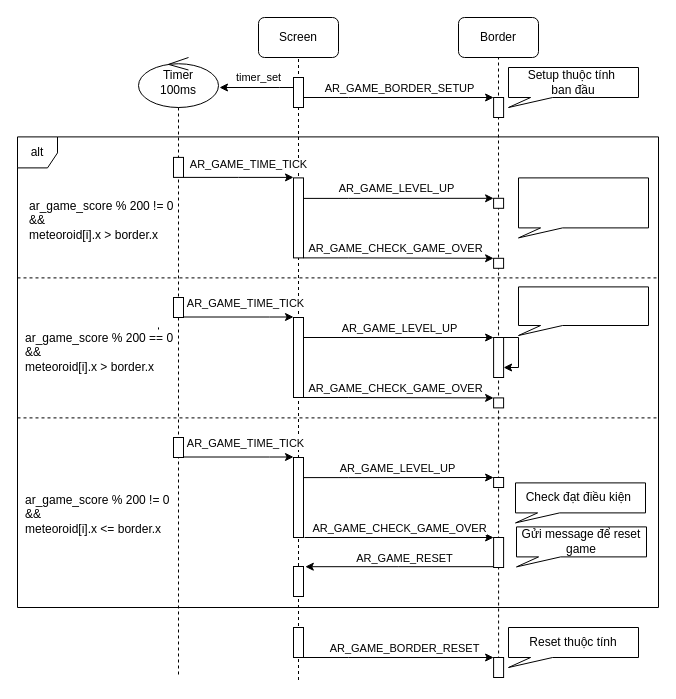
This 676x699 diagram has some shape labels left out. Each missing label, with the box of its shape:
Level up và Check không đủ điều kiện thực hiện: (518, 177, 648, 238)
Với số lượng điểm đủ thì Level up diễn ra: (518, 286, 648, 336)
